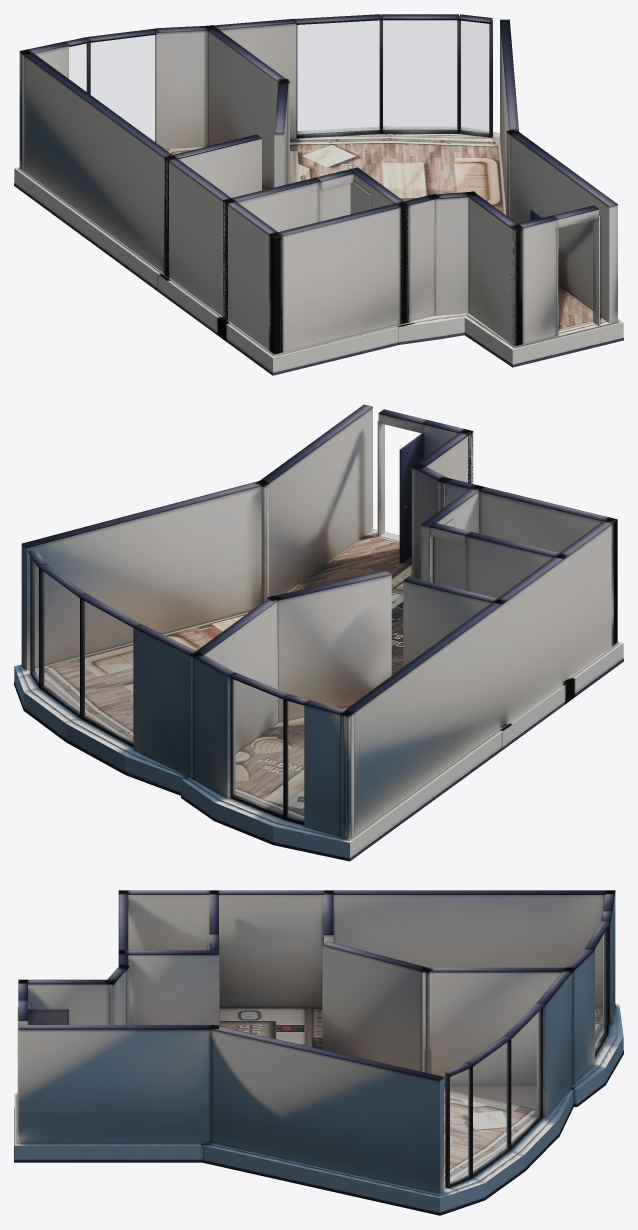
The picture shows the model from 3 angles, top to bottom: view 1: azimuth 30°, elevation 25°; view 2: azimuth 150°, elevation 25°; view 3: azimuth 270°, elevation 25°; orthographic projection. The views are drawn at different scales.
Visible parts, largest first — view 1: plan, glass2_m, glass3_m, glass1_m, glass4_m, glass0_m; view 2: plan, glass1_m, glass2_m, glass3_m, glass0_m, glass4_m; view 3: plan, glass3_m, glass2_m, glass4_m, glass1_m.
Part boxes in pixels (left/top/right/bottom): plan: left=14, top=14, right=623, bottom=375; glass2_m: left=297, top=20, right=379, bottom=134; glass3_m: left=383, top=20, right=456, bottom=130; glass1_m: left=91, top=35, right=155, bottom=141; glass4_m: left=461, top=21, right=488, bottom=133; glass0_m: left=69, top=44, right=86, bottom=91; plan: left=14, top=404, right=623, bottom=861; glass1_m: left=233, top=679, right=282, bottom=814; glass2_m: left=83, top=601, right=132, bottom=742; glass3_m: left=42, top=571, right=79, bottom=712; glass0_m: left=287, top=701, right=303, bottom=821; glass4_m: left=33, top=561, right=38, bottom=680; plan: left=14, top=890, right=623, bottom=1215; glass3_m: left=473, top=1042, right=507, bottom=1172; glass2_m: left=511, top=1010, right=540, bottom=1143; glass4_m: left=450, top=1069, right=469, bottom=1183; glass1_m: left=595, top=931, right=605, bottom=1050.
Bounding box in the file's own units: 8.33 × 2.62 × 10.99.
2 materials, 1 textured.
